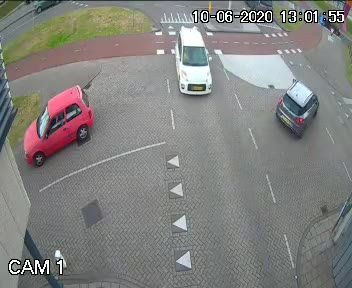car: (21, 81, 97, 173), (176, 19, 215, 98), (269, 84, 326, 134), (245, 0, 278, 18)
